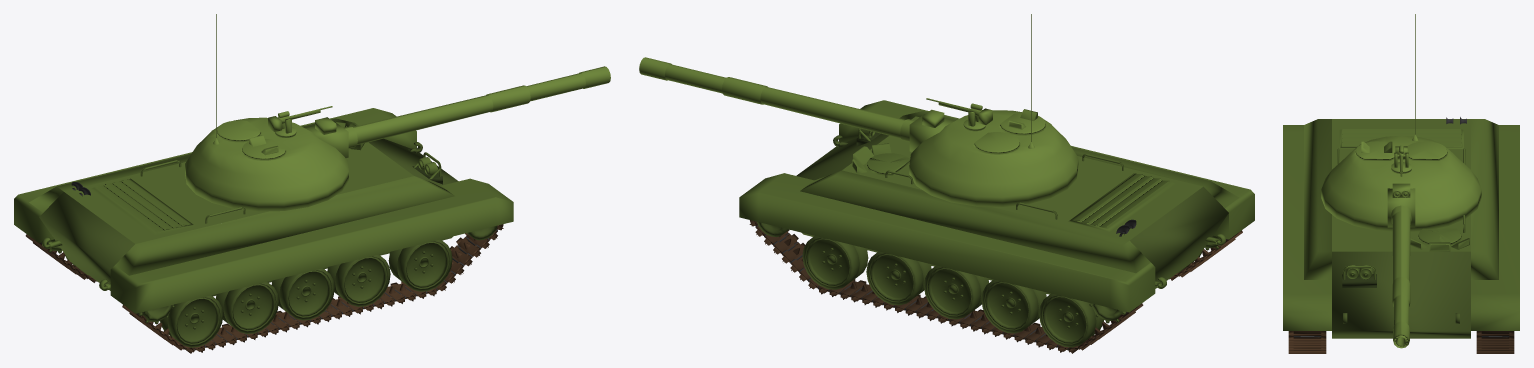
The model's file is tank.fbx.
3 renders of one model, left to right at view 1: azimuth 30°, elevation 25°; view 2: azimuth 150°, elevation 25°; view 3: azimuth 270°, elevation 25°, orthographic. The views are drawn at different scales.
Visible parts, largest first — view 1: alvaz53-, futomu4i-, Plane, lovegcso_, kibuvo1.001, gpp, kibuvo1; view 2: alvaz53-, futomu4i-, Plane, lovegcso_, kibuvo1.001, gpp, kibuvo1; view 3: alvaz53-, Plane, lovegcso_, futomu4i-, kibuvo1.001, kibuvo1, gpp, tavmero.
Part boxes in pixels (box(x1,y1,x2,y2)): alvaz53-: box(14, 108, 513, 313); futomu4i-: box(25, 224, 503, 353); Plane: box(185, 117, 348, 211); lovegcso_: box(305, 66, 610, 157); kibuvo1.001: box(216, 120, 261, 142); gpp: box(268, 106, 332, 137); kibuvo1: box(241, 139, 286, 160); alvaz53-: box(739, 100, 1254, 312); futomu4i-: box(749, 220, 1242, 353); Plane: box(909, 110, 1078, 206); lovegcso_: box(639, 57, 954, 151); kibuvo1.001: box(973, 132, 1020, 154); gpp: box(926, 98, 992, 131); kibuvo1: box(999, 113, 1046, 135); alvaz53-: box(1283, 117, 1519, 338); Plane: box(1321, 135, 1481, 231); lovegcso_: box(1387, 188, 1415, 348); futomu4i-: box(1288, 331, 1514, 353); kibuvo1.001: box(1407, 141, 1447, 160); kibuvo1: box(1355, 141, 1395, 160); gpp: box(1391, 145, 1411, 176); tavmero: box(1392, 183, 1410, 197).
Size of the model in its own units: 21.93 by 10.66 by 8.64.
